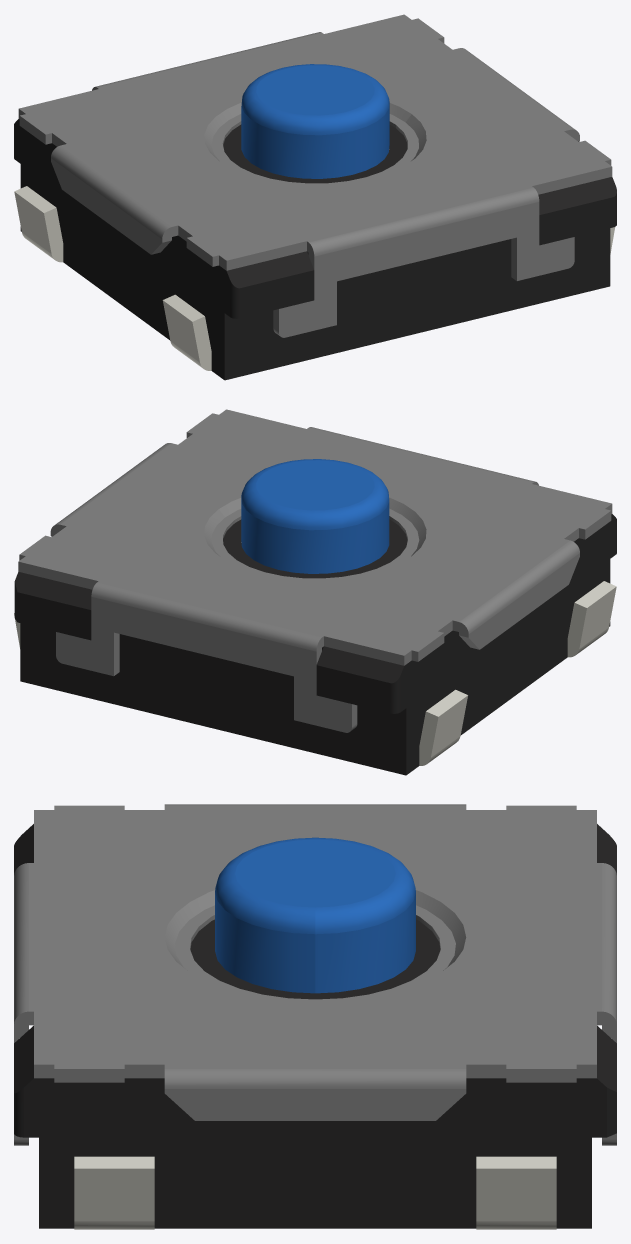
Rendered from kc-sw_spst_evqp0.glb.
3 views of the same model, one above another, from view 1: azimuth 30°, elevation 25°; view 2: azimuth 150°, elevation 25°; view 3: azimuth 270°, elevation 25° (orthographic). The views are drawn at different scales.
Visible parts, largest first — view 1: 0.25_0.25_0.25_0, 0_0_0_0, 0_0.16666666666666666_0.5_0, 0.6666666666666666_0.6666666666666666_0.5833333333333334_0.8; view 2: 0.25_0.25_0.25_0, 0_0_0_0, 0_0.16666666666666666_0.5_0, 0.6666666666666666_0.6666666666666666_0.5833333333333334_0.8; view 3: 0.25_0.25_0.25_0, 0_0_0_0, 0_0.16666666666666666_0.5_0, 0.6666666666666666_0.6666666666666666_0.5833333333333334_0.8.
Boxes of the visible parts, box(x1,y1,x2,y2) form: 0.25_0.25_0.25_0: box(18, 14, 612, 337); 0_0_0_0: box(14, 119, 616, 380); 0_0.16666666666666666_0.5_0: box(241, 64, 389, 178); 0.6666666666666666_0.6666666666666666_0.5833333333333334_0.8: box(14, 186, 615, 370); 0.25_0.25_0.25_0: box(18, 409, 612, 732); 0_0_0_0: box(14, 514, 616, 775); 0_0.16666666666666666_0.5_0: box(241, 459, 389, 573); 0.6666666666666666_0.6666666666666666_0.5833333333333334_0.8: box(14, 581, 616, 765); 0.25_0.25_0.25_0: box(14, 804, 616, 1145); 0_0_0_0: box(14, 824, 616, 1228); 0_0.16666666666666666_0.5_0: box(215, 837, 415, 993); 0.6666666666666666_0.6666666666666666_0.5833333333333334_0.8: box(74, 1156, 556, 1229).
Size of the model in its own units: 0.66 by 0.25 by 0.6.
